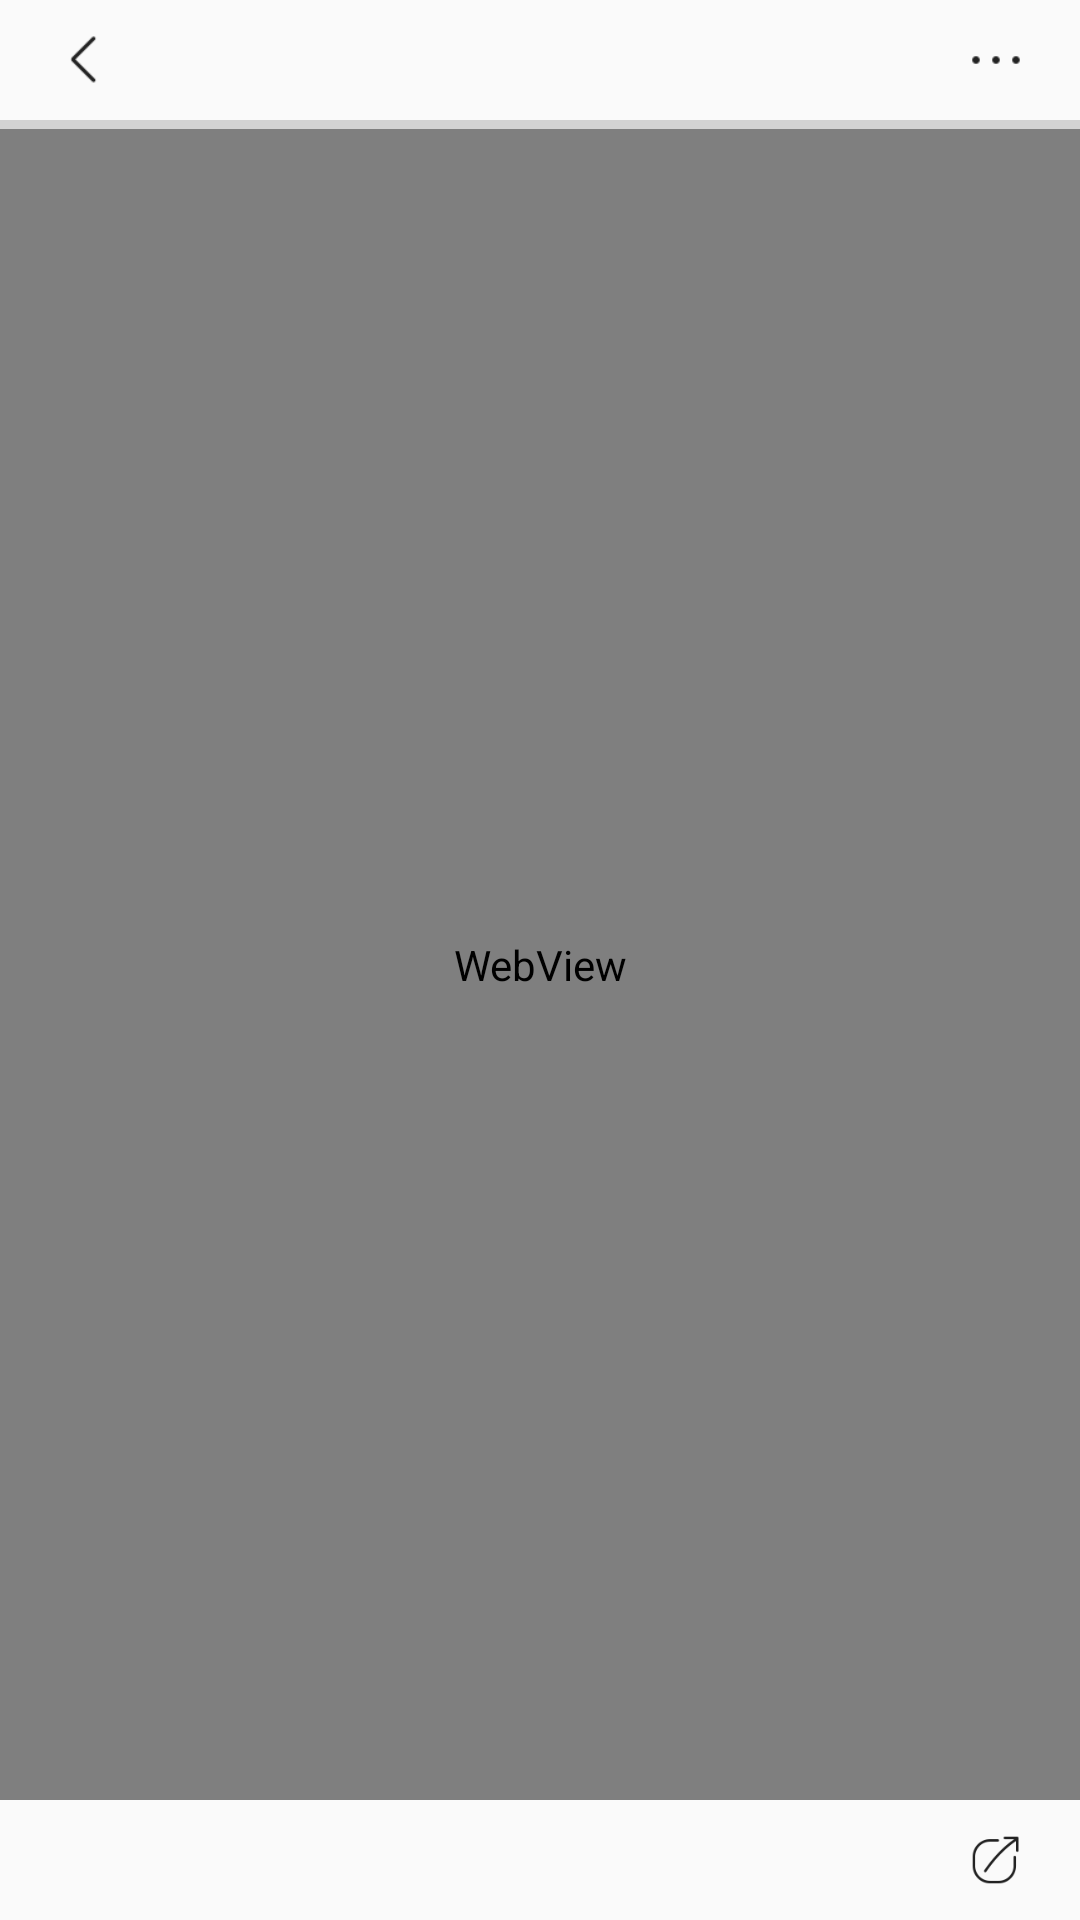

Named icons in this screenshot (1080×1920) and their centers, point (x, y):
left back titlebar: point (83, 59)
more titlebar: point (996, 60)
share: point (995, 1860)
